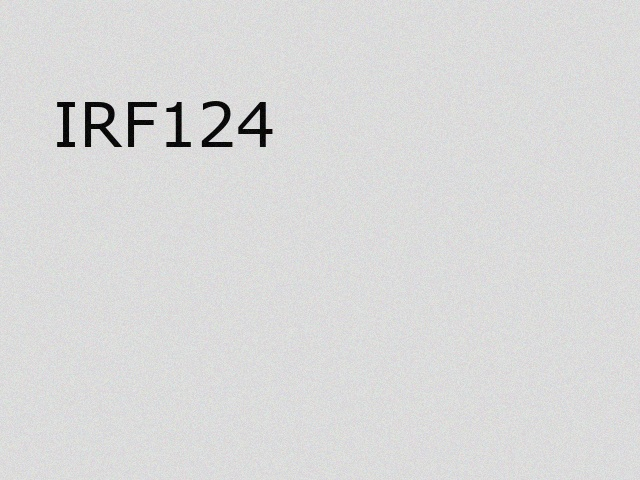OCR_AREA: (49, 97, 279, 151)
